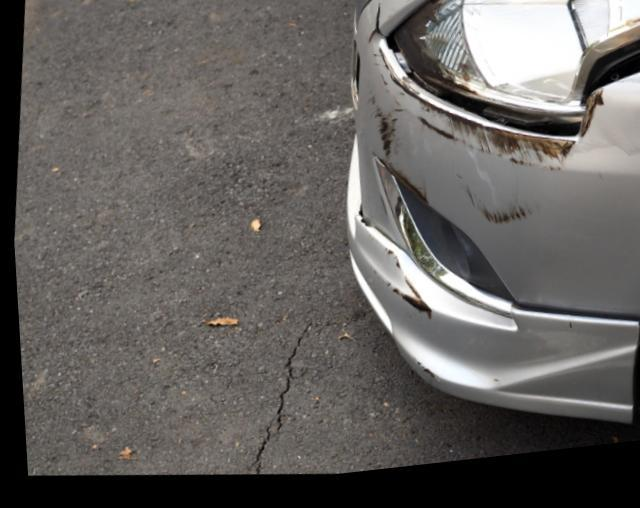crack: (365, 6, 386, 53)
dislocated part: (344, 48, 640, 441)
scratch: (362, 52, 640, 236), (360, 244, 430, 330)
